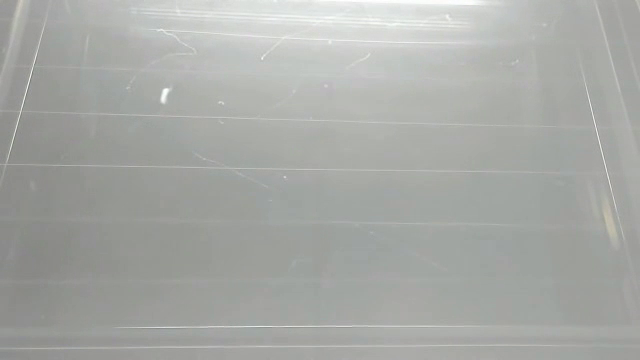alpha: (158, 85, 171, 108)
